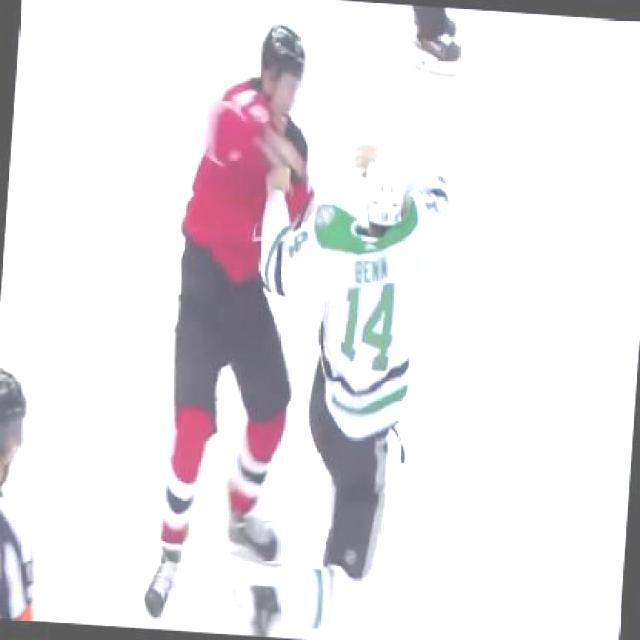fight: (148, 12, 462, 638)
